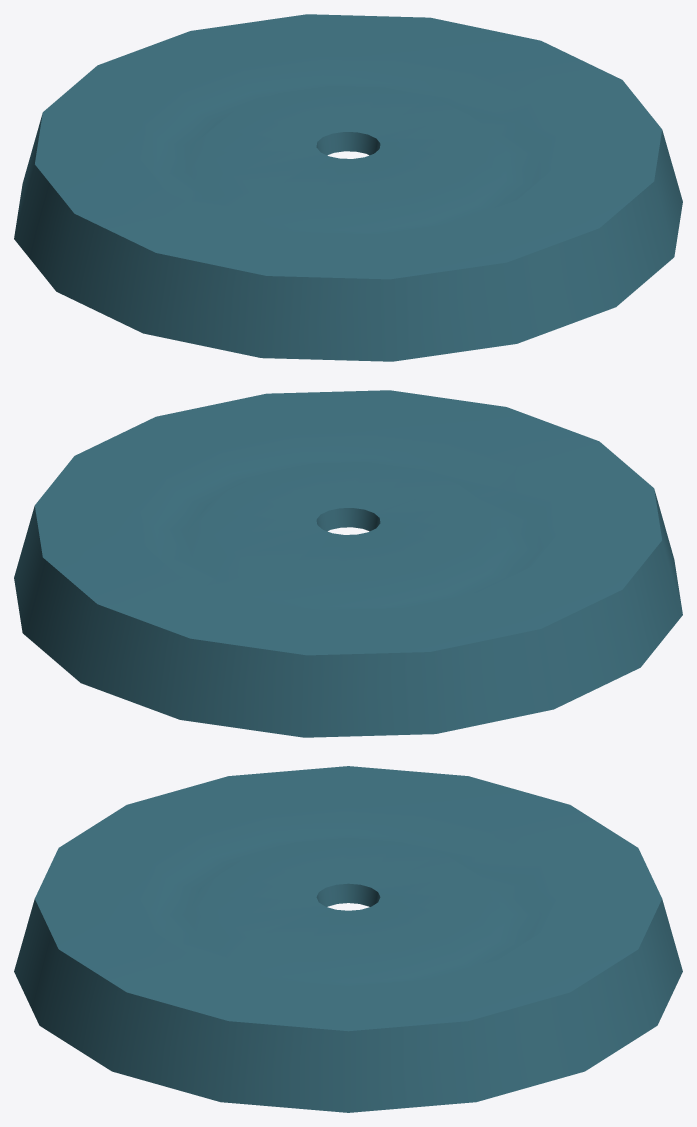
File: SM_SmallTrashkit_CupCap_001.fbx
The picture shows the model from 3 angles, top to bottom: view 1: azimuth 30°, elevation 25°; view 2: azimuth 150°, elevation 25°; view 3: azimuth 270°, elevation 25°; orthographic projection.
Parts seen in each view (by area): view 1: SM_SmallTrashkit_CupCap_001; view 2: SM_SmallTrashkit_CupCap_001; view 3: SM_SmallTrashkit_CupCap_001.
Part boxes in pixels (bbox=[...]): SM_SmallTrashkit_CupCap_001: bbox=[14, 14, 682, 361]; SM_SmallTrashkit_CupCap_001: bbox=[14, 390, 682, 737]; SM_SmallTrashkit_CupCap_001: bbox=[14, 766, 682, 1112].
Size of the model in its own units: 12.06 by 1.55 by 12.06.
